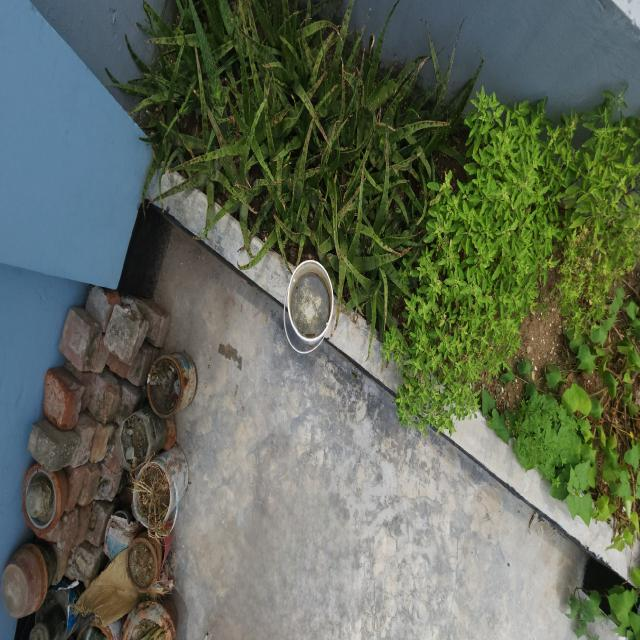Breeding Place: (148, 0, 450, 281), (404, 120, 640, 472), (7, 311, 193, 640), (266, 244, 348, 378)
